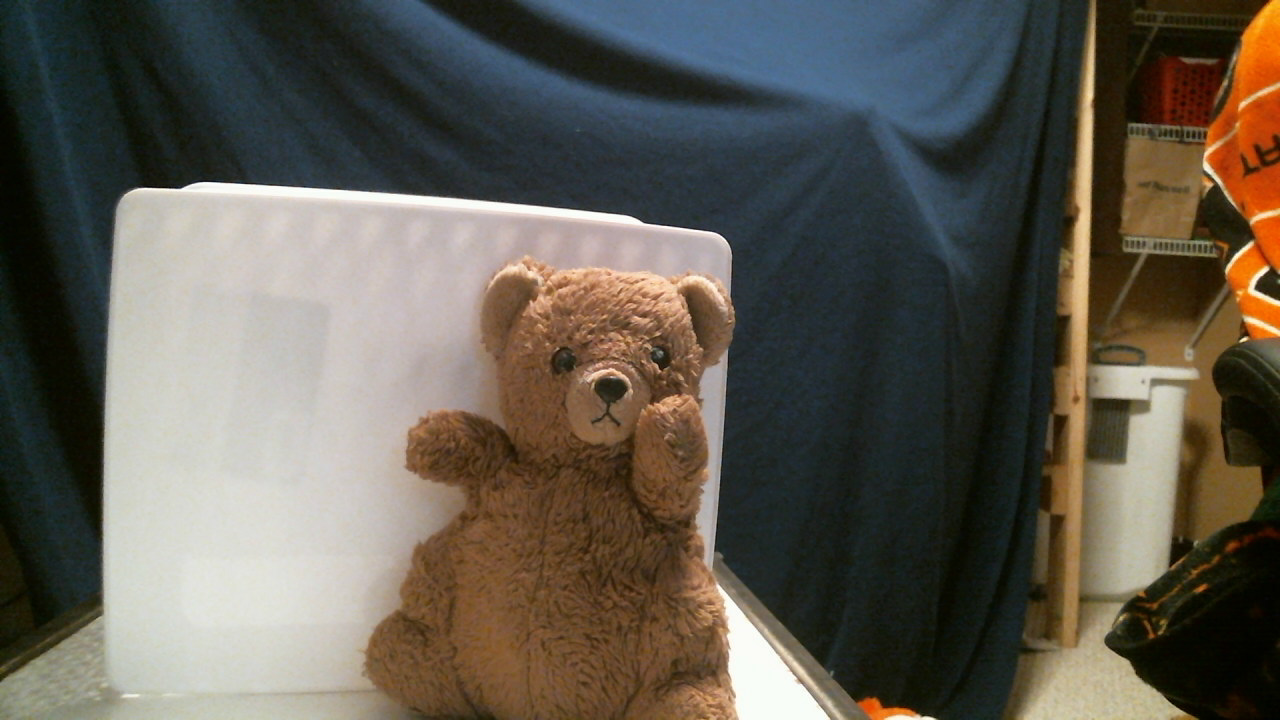Little_Mister_Bear: (551, 335, 676, 444)
